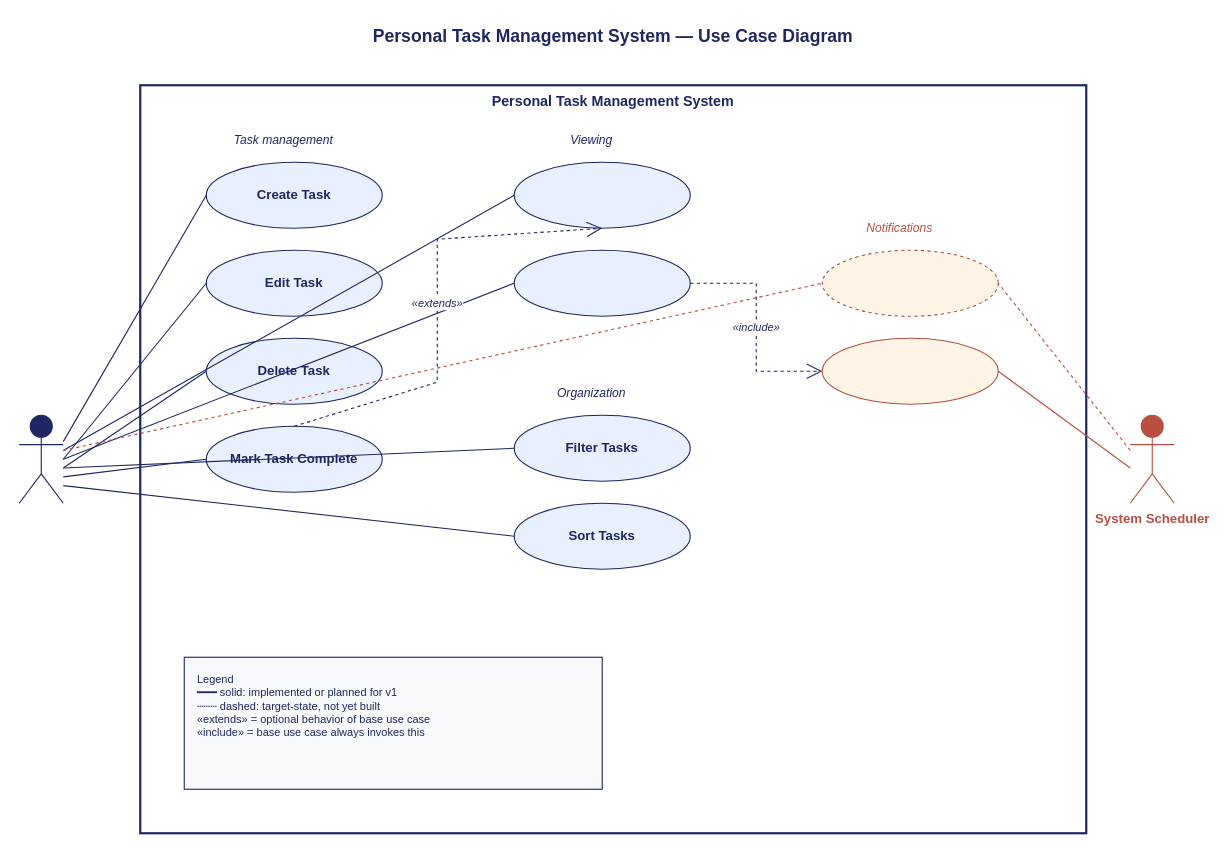
Some shapes in this 1229 by 853 pixel diagram are drawn without their labels. The centre of each missing label's shape, as x and y in pixels:
"Compute Overdue Status" belongs at point (909, 370).
"Receive Reminder" belongs at point (909, 282).
"User" belongs at point (40, 458).
"View Dashboard" belongs at point (601, 282).
"View Task List" belongs at point (601, 194).
